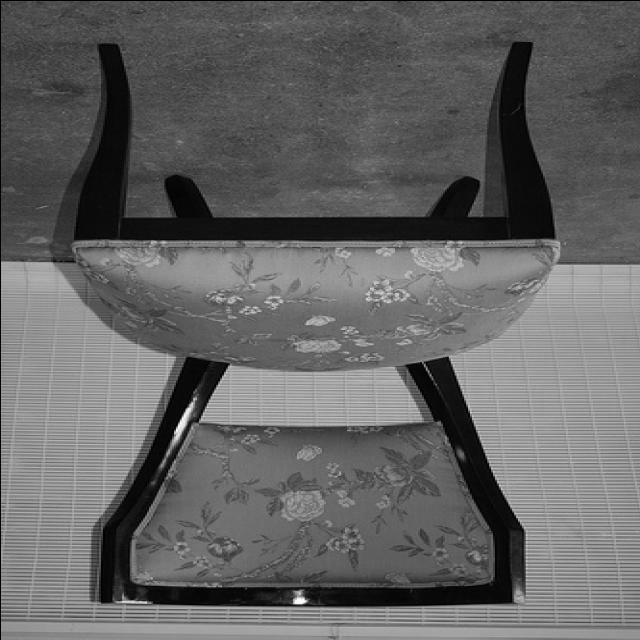chair: (56, 39, 562, 609)
